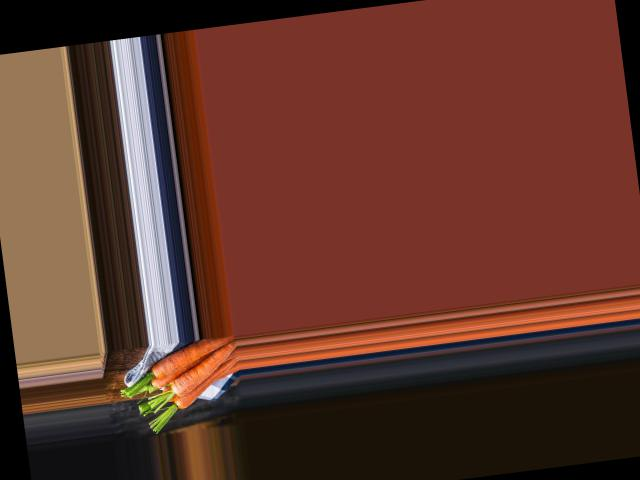carrot: (137, 334, 238, 380)
